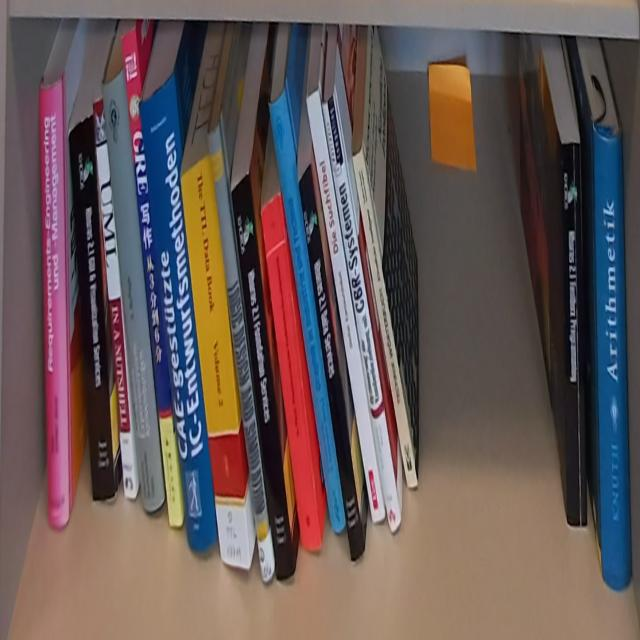Book Spine: (139, 74, 217, 551), (323, 94, 402, 532), (307, 89, 386, 524), (269, 87, 346, 533), (209, 122, 275, 581), (123, 30, 183, 526), (102, 62, 165, 511), (182, 156, 249, 569), (298, 163, 365, 564), (232, 173, 294, 581), (352, 147, 418, 489), (261, 196, 323, 554), (68, 115, 116, 502), (93, 96, 136, 500), (595, 128, 630, 591), (40, 76, 69, 529), (562, 141, 587, 529)
